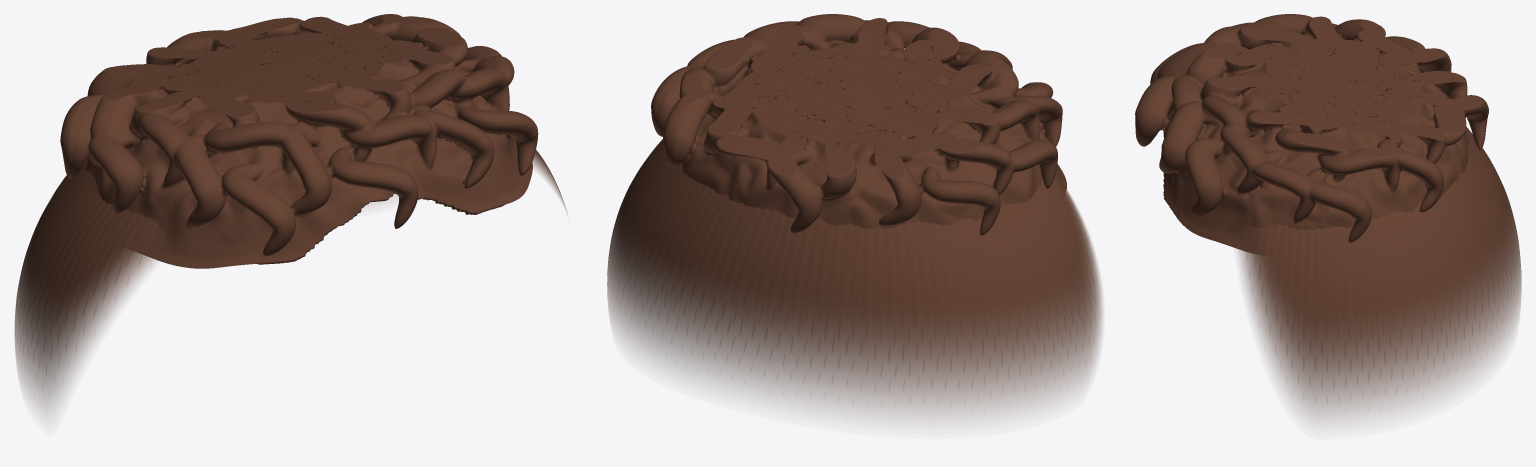
The model's file is Masculine-curly-top-bucket257-hair.glb.
The picture shows the model from 3 angles, left to right: view 1: azimuth 30°, elevation 25°; view 2: azimuth 150°, elevation 25°; view 3: azimuth 270°, elevation 25°; orthographic projection. The views are drawn at different scales.
Parts seen in each view (by area): view 1: 226 hair / Hair252 / sculpted curl groups, 226 hair / Hair257 / smooth side fade, 226 hair / Hair257 / directional fade marks; view 2: 226 hair / Hair257 / smooth side fade, 226 hair / Hair252 / sculpted curl groups, 226 hair / Hair257 / directional fade marks; view 3: 226 hair / Hair252 / sculpted curl groups, 226 hair / Hair257 / smooth side fade, 226 hair / Hair257 / directional fade marks.
Part boxes in pixels (bbox=[...]): 226 hair / Hair252 / sculpted curl groups: bbox=[60, 14, 538, 268]; 226 hair / Hair257 / smooth side fade: bbox=[14, 52, 567, 412]; 226 hair / Hair257 / directional fade marks: bbox=[16, 151, 543, 374]; 226 hair / Hair257 / smooth side fade: bbox=[607, 76, 1102, 418]; 226 hair / Hair252 / sculpted curl groups: bbox=[651, 14, 1066, 235]; 226 hair / Hair257 / directional fade marks: bbox=[617, 139, 1095, 388]; 226 hair / Hair252 / sculpted curl groups: bbox=[1135, 14, 1488, 253]; 226 hair / Hair257 / smooth side fade: bbox=[1236, 66, 1521, 420]; 226 hair / Hair257 / directional fade marks: bbox=[1246, 128, 1518, 386].
Size of the model in its own units: 0.9723 by 0.6147 by 0.7499.
